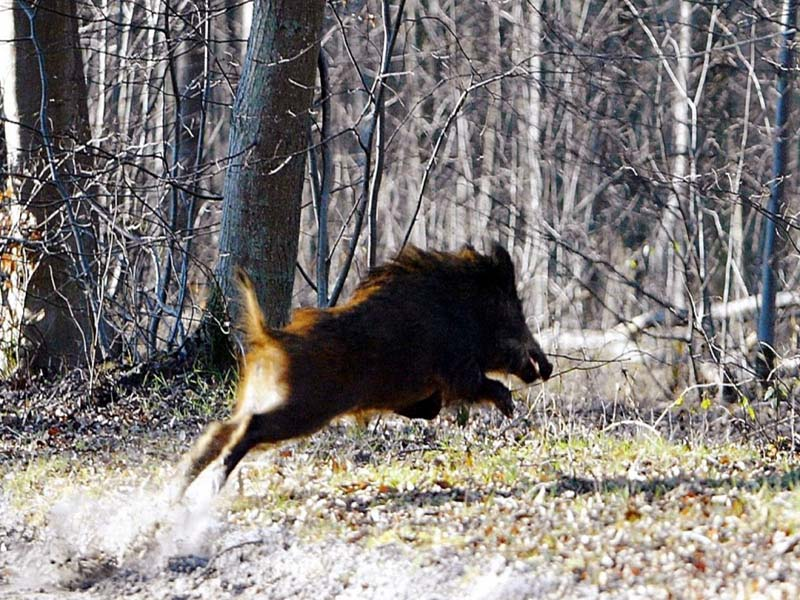cinghiale: (179, 230, 547, 489)
